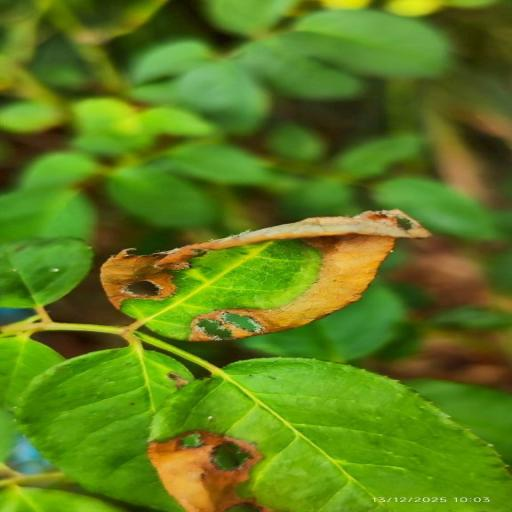healthy_leaf: (17, 346, 191, 512)
thrip: (148, 358, 511, 512), (101, 210, 428, 341)
